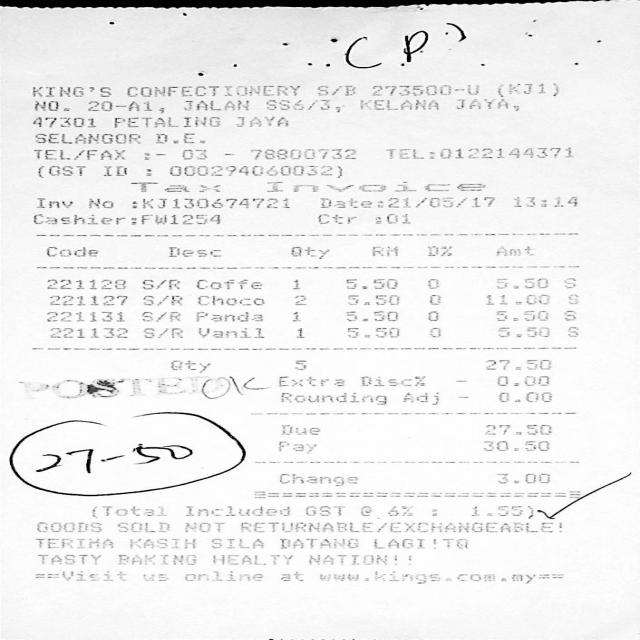text: (239, 521, 554, 534), (263, 179, 488, 192), (314, 570, 536, 582), (125, 84, 303, 96), (180, 148, 356, 160), (168, 165, 330, 175), (277, 391, 387, 405), (139, 198, 288, 208), (370, 535, 469, 550), (440, 148, 576, 158), (29, 212, 124, 225), (365, 84, 484, 94), (186, 506, 293, 517), (34, 133, 140, 144), (125, 180, 222, 192), (209, 552, 290, 566), (109, 116, 222, 126), (28, 85, 114, 98), (276, 536, 362, 549), (306, 553, 391, 566), (31, 148, 123, 160), (360, 97, 438, 111), (383, 196, 492, 206), (179, 569, 262, 582), (139, 213, 221, 226), (279, 472, 360, 485), (189, 278, 263, 292), (43, 278, 127, 290), (28, 537, 112, 549), (44, 294, 124, 306), (192, 310, 263, 323), (198, 295, 268, 308), (98, 504, 166, 517), (114, 554, 202, 564), (57, 570, 129, 582), (31, 116, 97, 129), (46, 311, 124, 322), (51, 327, 127, 338), (126, 536, 195, 548), (182, 98, 250, 110), (496, 82, 558, 95), (360, 375, 426, 387), (463, 504, 528, 516), (482, 423, 552, 434), (34, 521, 104, 532), (493, 325, 552, 338), (207, 538, 270, 550), (87, 101, 154, 112), (481, 294, 548, 305), (397, 389, 443, 405), (233, 115, 294, 127), (259, 100, 332, 110), (192, 328, 264, 338), (513, 196, 578, 207), (484, 360, 554, 370), (452, 98, 509, 110), (274, 376, 342, 386), (34, 554, 102, 564), (315, 197, 369, 209), (494, 310, 548, 322), (483, 440, 554, 449), (167, 246, 219, 258), (344, 278, 396, 290), (276, 439, 320, 453), (114, 521, 170, 532), (496, 277, 546, 289), (345, 310, 399, 321), (311, 84, 360, 96), (277, 423, 322, 436), (496, 472, 549, 483), (494, 375, 552, 385), (310, 212, 354, 225), (44, 245, 96, 256), (168, 358, 208, 372), (304, 504, 346, 517), (346, 294, 400, 304), (496, 391, 550, 401), (136, 310, 180, 322), (288, 245, 328, 258), (142, 326, 182, 339), (348, 327, 398, 337), (153, 133, 198, 144), (181, 521, 226, 532), (140, 294, 182, 305), (32, 197, 72, 208), (140, 279, 180, 290), (47, 164, 82, 176), (386, 148, 422, 159), (494, 246, 532, 256), (369, 244, 398, 257), (383, 212, 410, 225), (386, 506, 414, 518), (274, 570, 304, 581), (426, 244, 451, 256), (102, 165, 126, 177), (31, 99, 59, 109), (84, 198, 111, 208), (140, 574, 170, 582), (558, 276, 576, 288), (560, 310, 578, 322), (292, 357, 307, 371), (426, 325, 442, 337), (358, 506, 374, 518), (291, 295, 308, 306), (427, 293, 441, 306), (426, 309, 439, 322), (286, 310, 301, 321), (292, 326, 304, 339), (425, 278, 440, 288), (562, 294, 577, 304), (563, 326, 577, 336), (288, 280, 304, 288)
